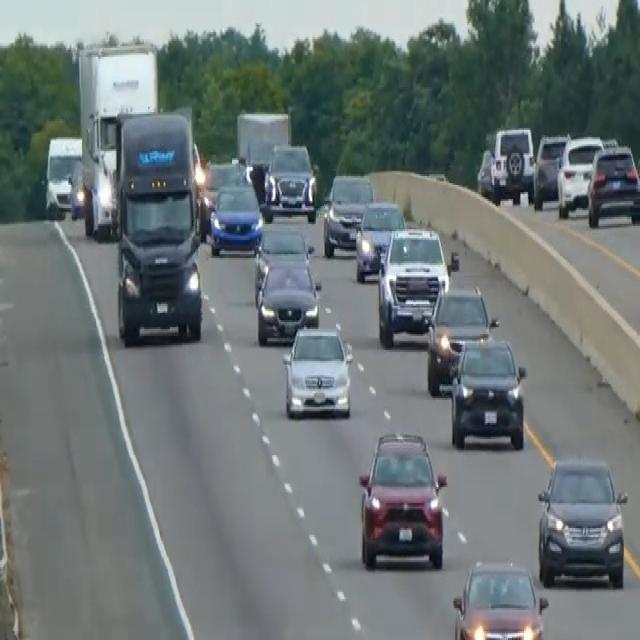car: (357, 428, 447, 569), (536, 454, 628, 588), (376, 224, 452, 347), (447, 334, 526, 450), (425, 282, 497, 394), (451, 558, 548, 638), (282, 322, 353, 419), (255, 256, 321, 345), (252, 222, 314, 302), (586, 142, 639, 228), (354, 197, 405, 283), (322, 171, 373, 256), (263, 140, 317, 220), (208, 180, 263, 256), (556, 133, 605, 217), (197, 158, 243, 236), (490, 125, 535, 202), (532, 132, 569, 210), (68, 158, 85, 219), (476, 146, 495, 199)
lorry: (112, 107, 204, 345), (76, 39, 159, 238)
minibus: (43, 133, 82, 219)
